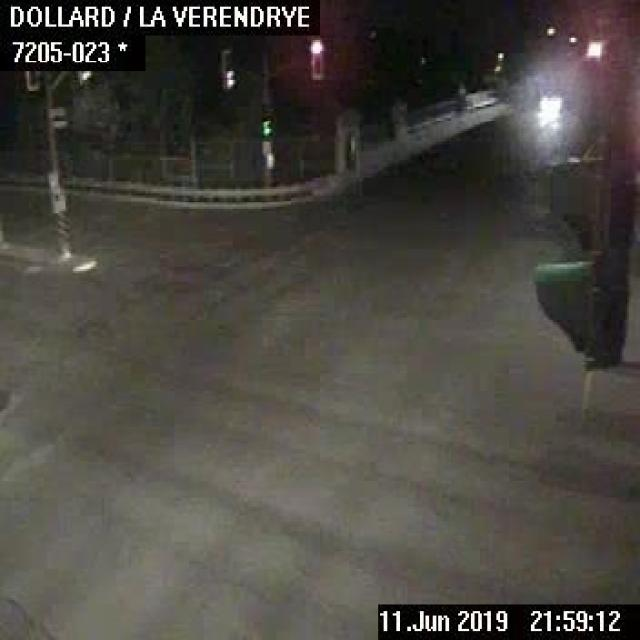vehicle: (535, 87, 567, 113)
